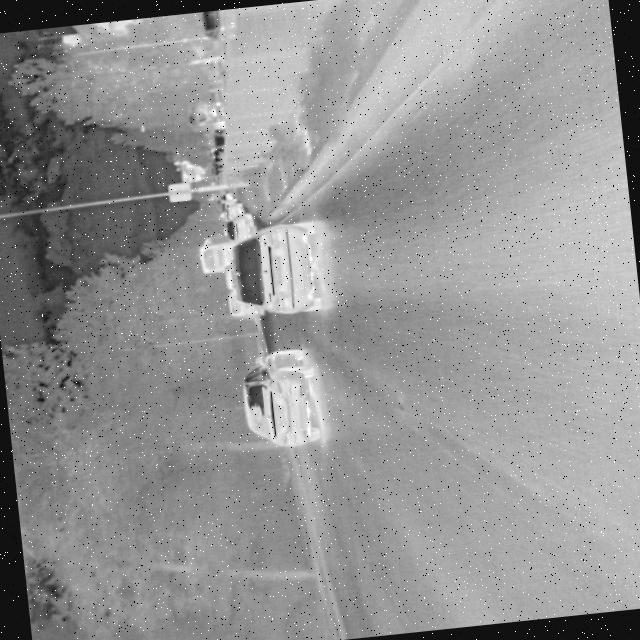Vehicle: (224, 218, 323, 321), (234, 345, 324, 454)
